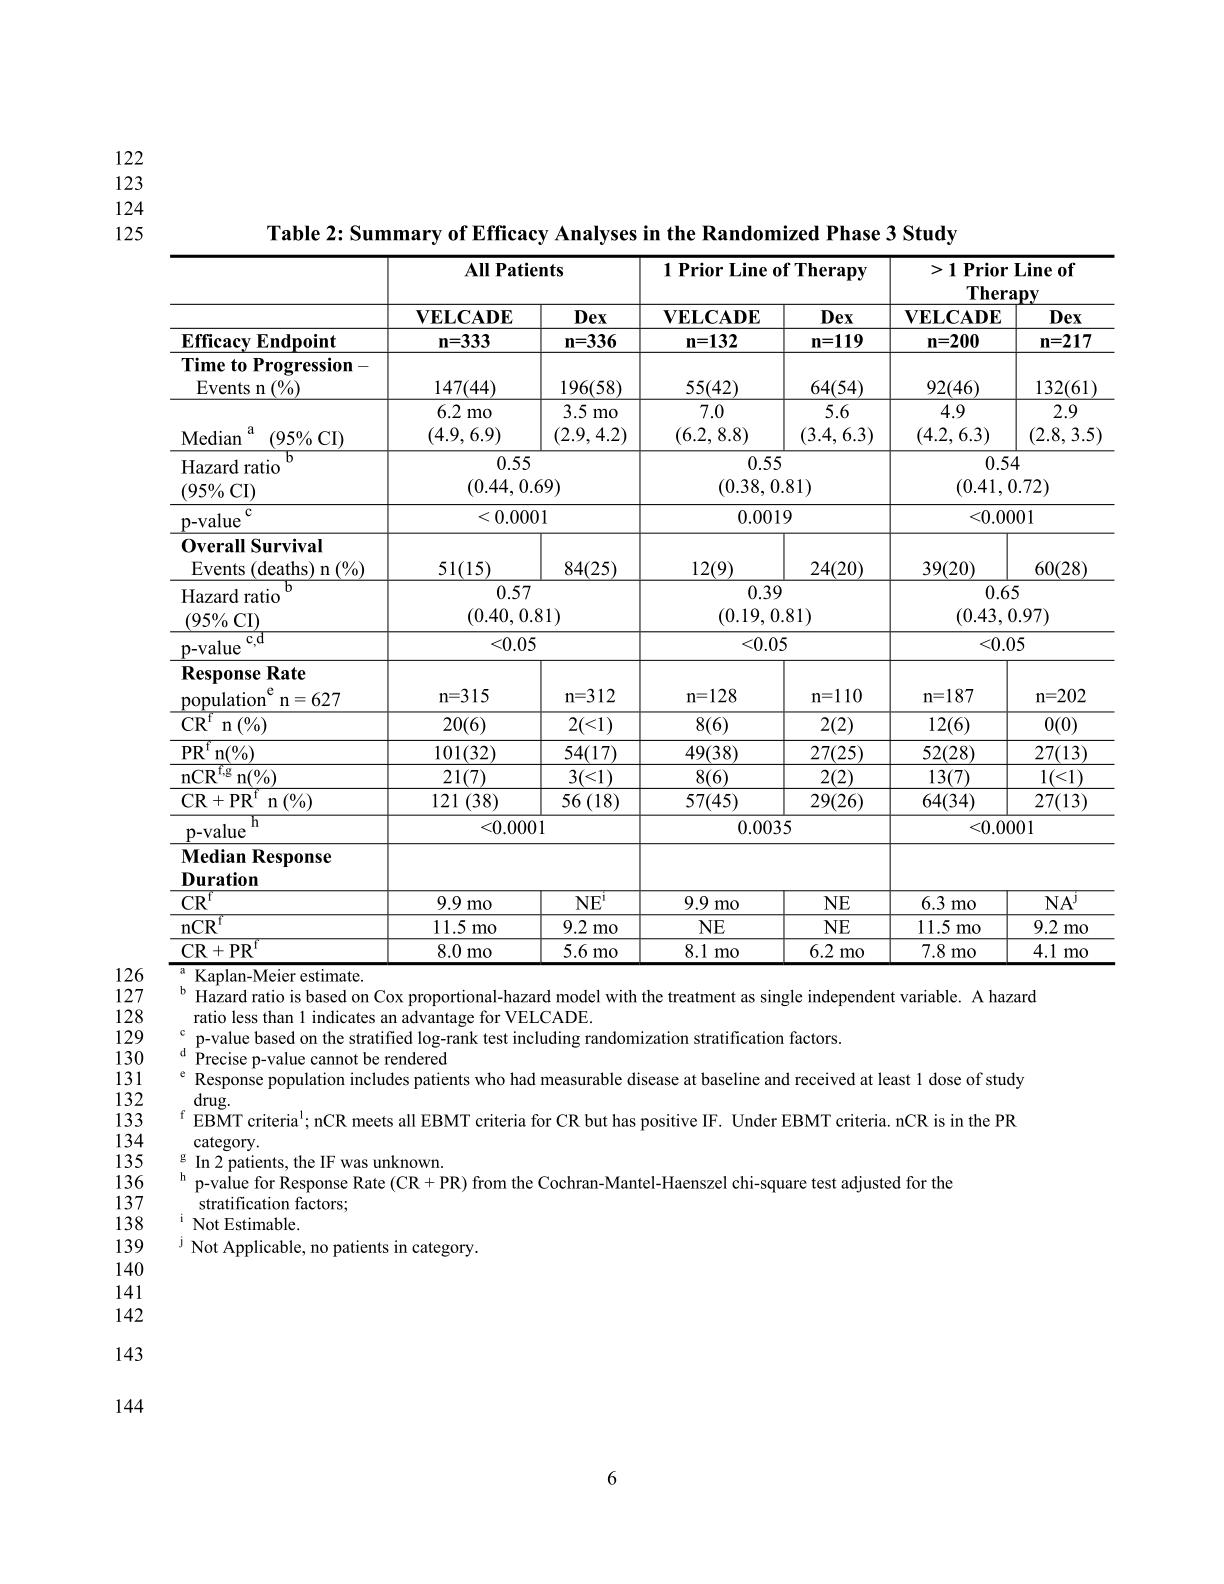partial_lined_merged_cells: (168, 253, 1121, 968)
